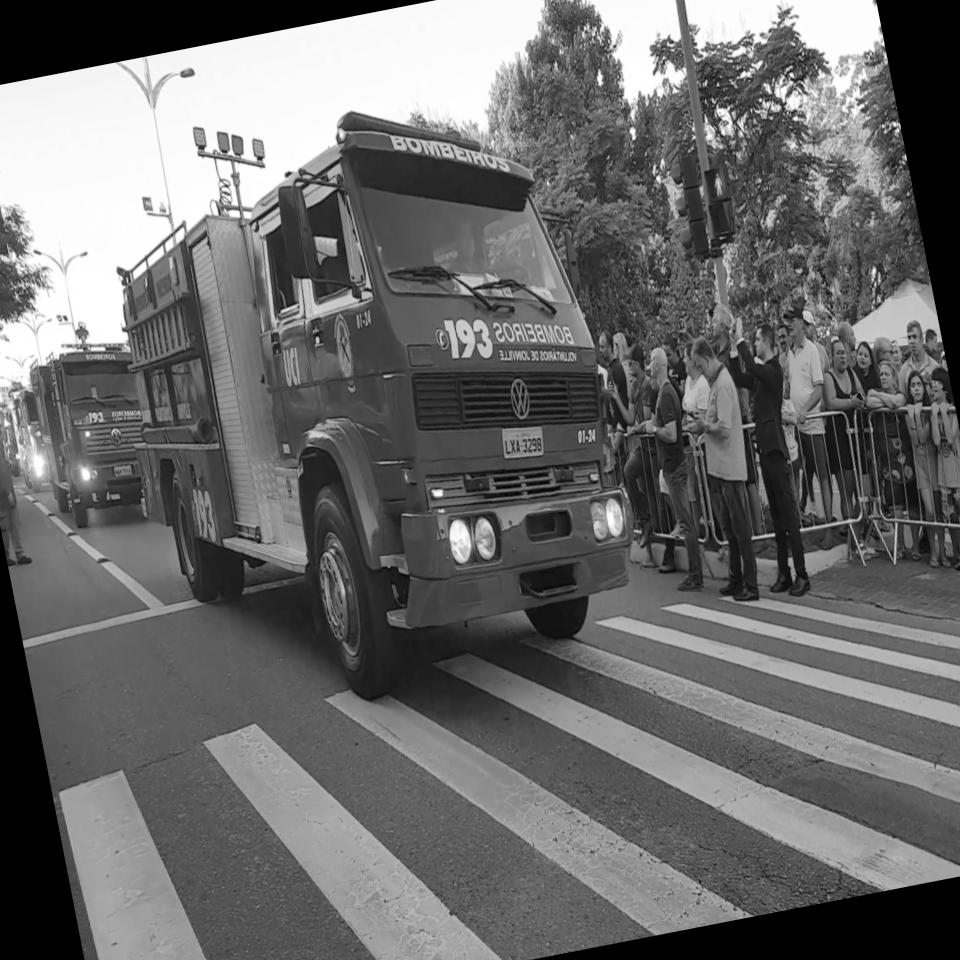viatura: (90, 55, 662, 736)
